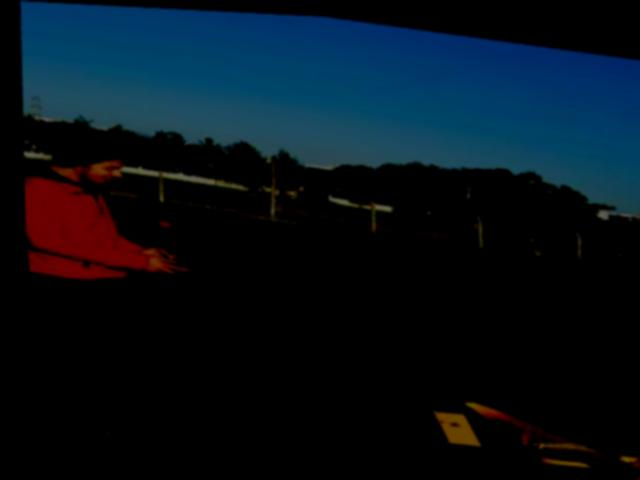iha: (394, 373, 640, 480)
